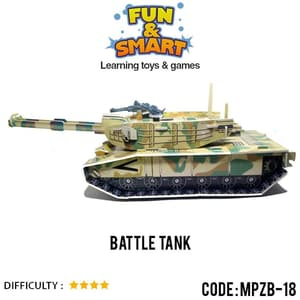Battle Tank: (9, 100, 296, 201)
